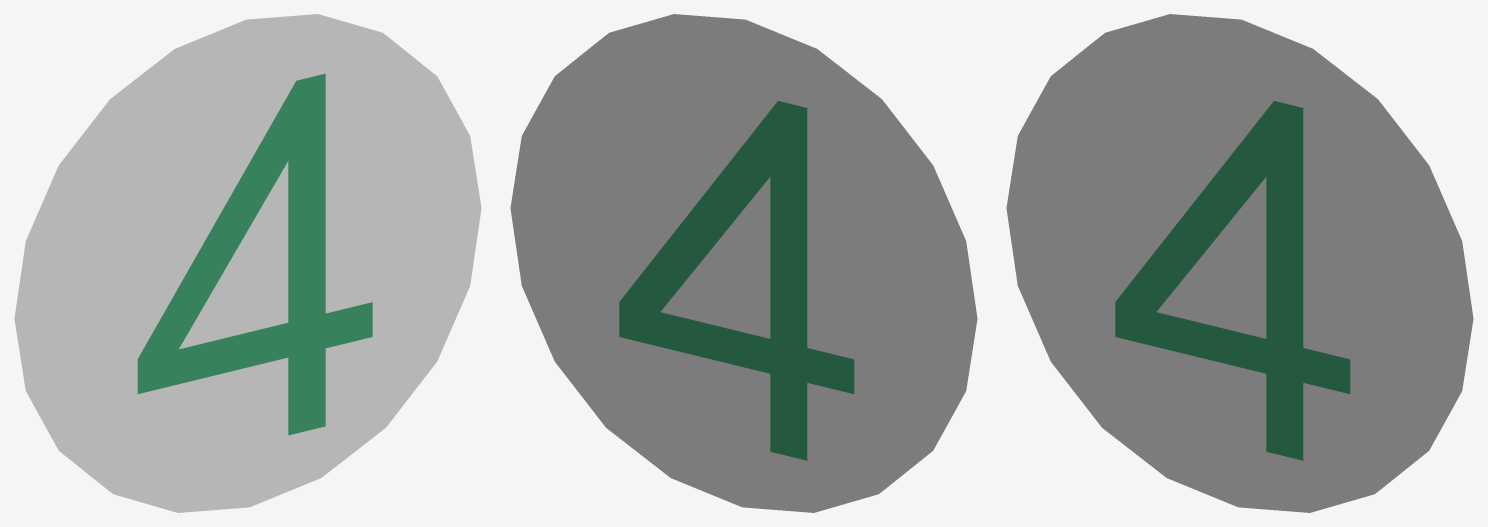
File: text_window4.fbx
The picture shows the model from 3 angles, left to right: view 1: azimuth 30°, elevation 25°; view 2: azimuth 150°, elevation 25°; view 3: azimuth 330°, elevation 25°; orthographic projection.
Visible parts, largest first — view 1: text_window4; view 2: text_window4; view 3: text_window4.
Part boxes in pixels (<box>): text_window4: <box>14,14,481,512</box>; text_window4: <box>510,14,977,512</box>; text_window4: <box>1006,14,1473,512</box>.
Size of the model in its own units: 33.29 by 33.29 by 1.78.
